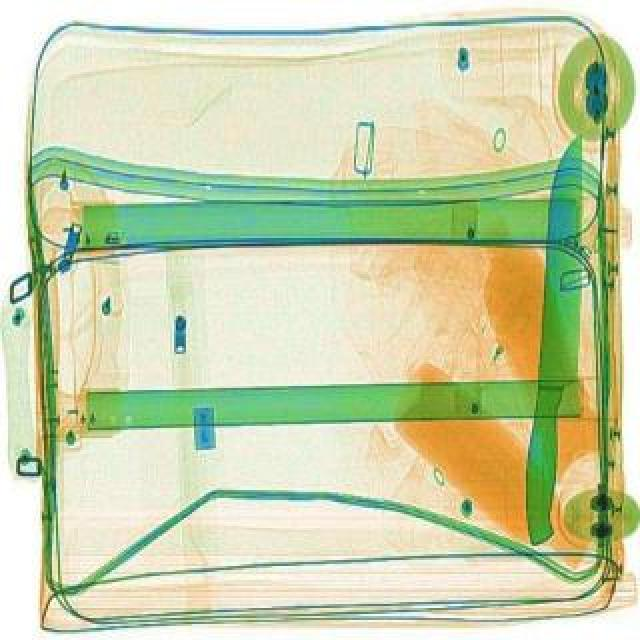knife: (518, 132, 596, 544)
